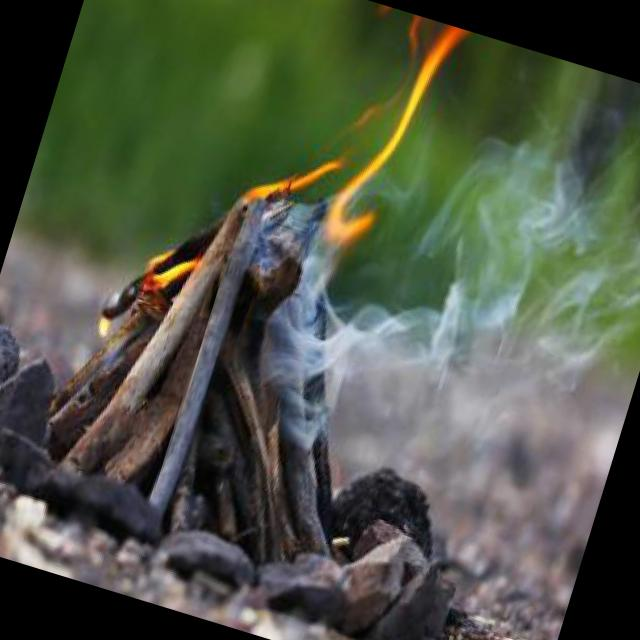smoke: (223, 206, 539, 528), (492, 274, 640, 460)
